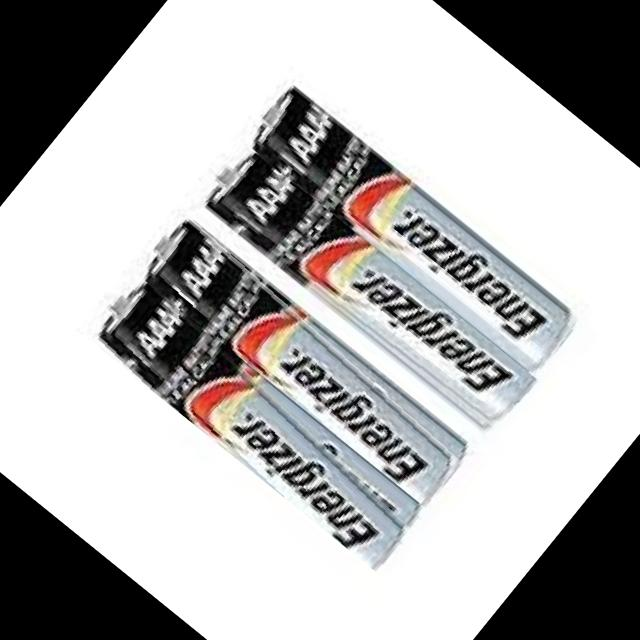Hazard: (78, 262, 434, 574), (191, 132, 544, 440), (244, 78, 589, 380), (134, 210, 477, 508)
